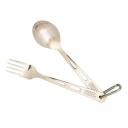fork: (4, 55, 116, 103)
